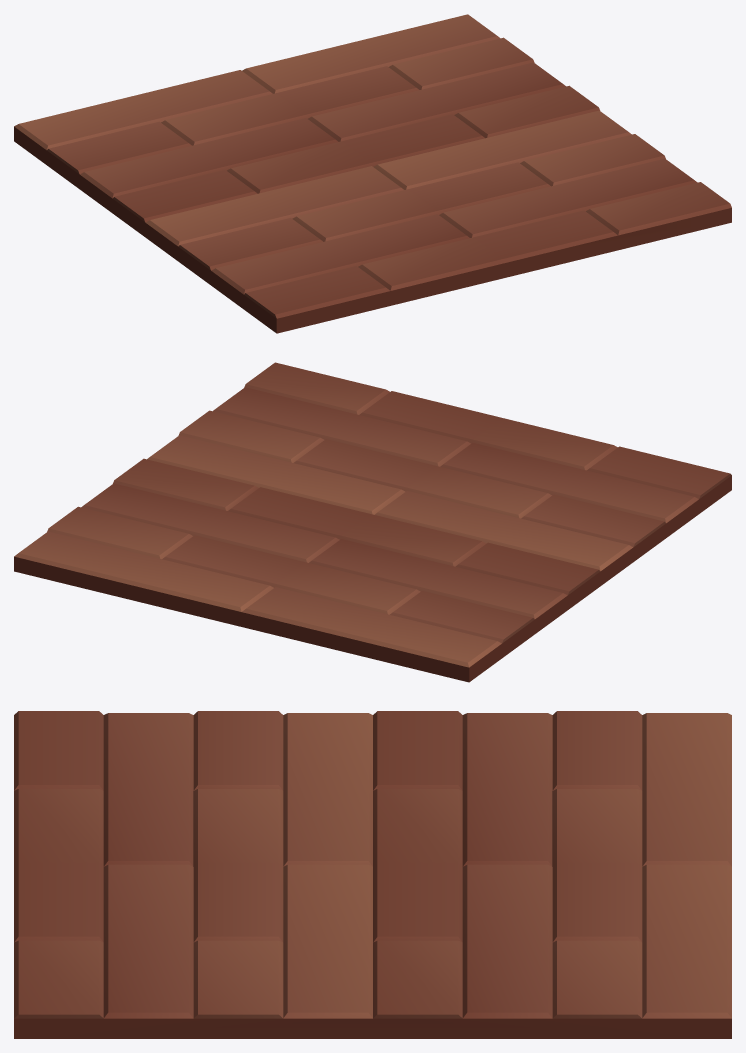
File: fw_floor_timber.glb
3 views of the same model, one above another, from view 1: azimuth 30°, elevation 25°; view 2: azimuth 150°, elevation 25°; view 3: azimuth 270°, elevation 25° (orthographic). The views are drawn at different scales.
Visible parts, largest first — view 1: body; view 2: body; view 3: body.
Part boxes in pixels (bbox=[...]): body: bbox=[14, 14, 731, 333]; body: bbox=[14, 362, 731, 682]; body: bbox=[14, 711, 731, 1038].
Bounding box in the file's own units: 2.6 × 0.0975 × 2.6.
